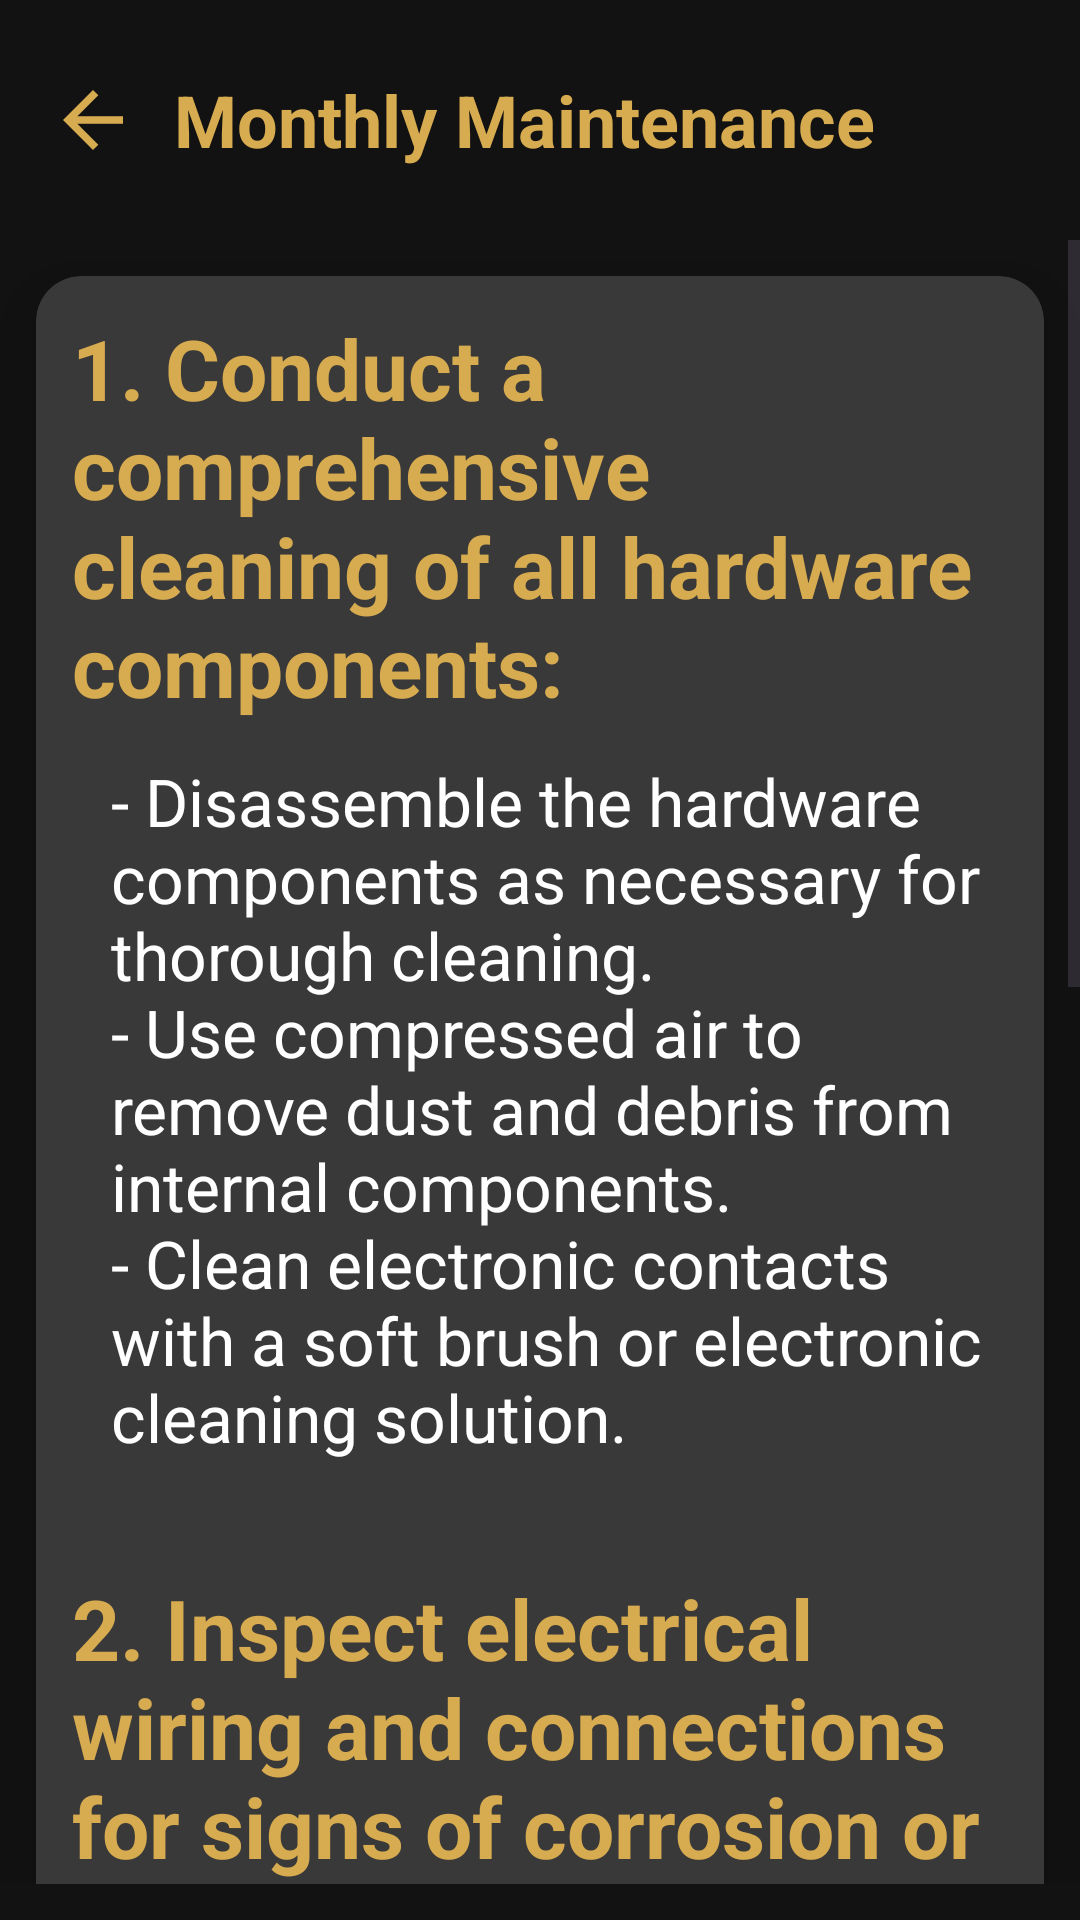

Screen size 1080px x 1920px. Icon name, then its box in pixels as bbox=(x1, y1, x2, y2):
arrow back: bbox=(63, 90, 123, 150)
